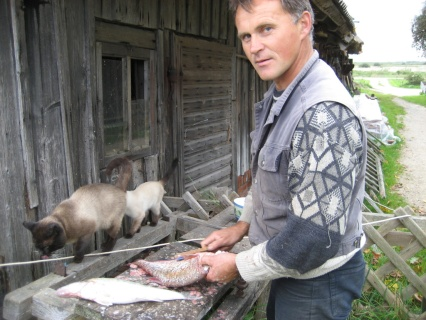Cat: (22, 156, 133, 262)
